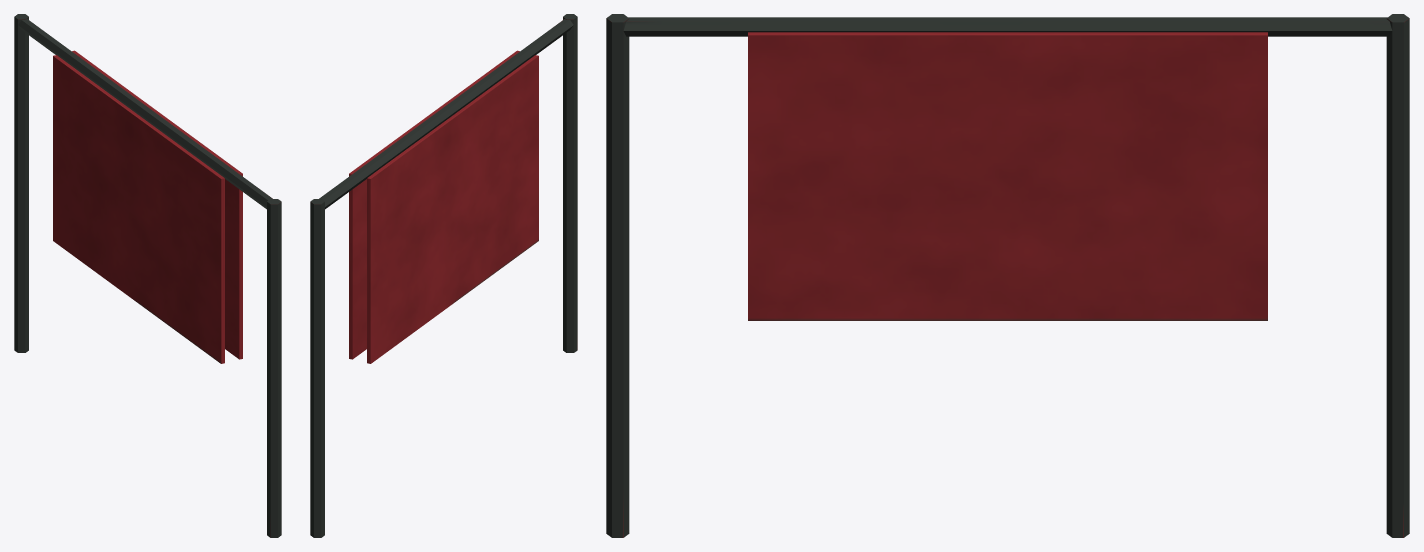
Rendered from klepac_5c888211.glb.
3 views of the same model, side by side, from view 1: azimuth 30°, elevation 25°; view 2: azimuth 150°, elevation 25°; view 3: azimuth 270°, elevation 25° (orthographic). The views are drawn at different scales.
Parts seen in each view (by area): view 1: dum; view 2: dum; view 3: dum.
Part boxes in pixels (x1,y1,x2,y2): dum: (14, 14, 281, 537); dum: (310, 14, 577, 537); dum: (606, 14, 1409, 537).
Size of the model in its own units: 0.1197 by 1.75 by 2.46.
1 material, 1 textured.
